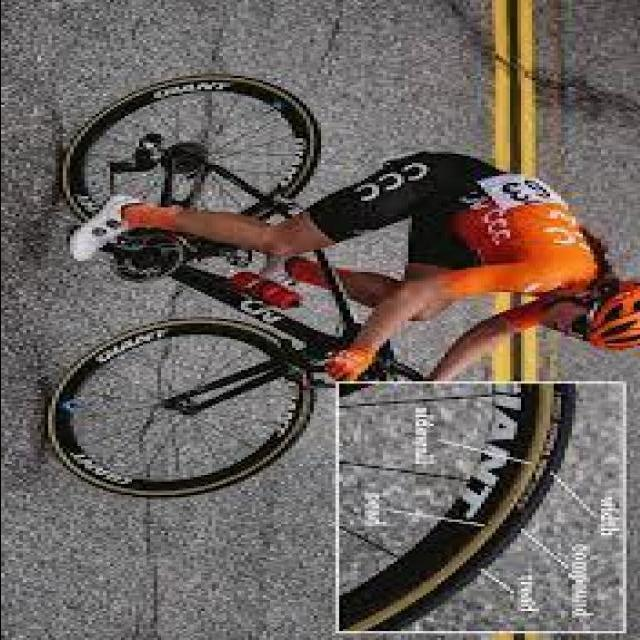bicycle: (55, 57, 401, 501)
